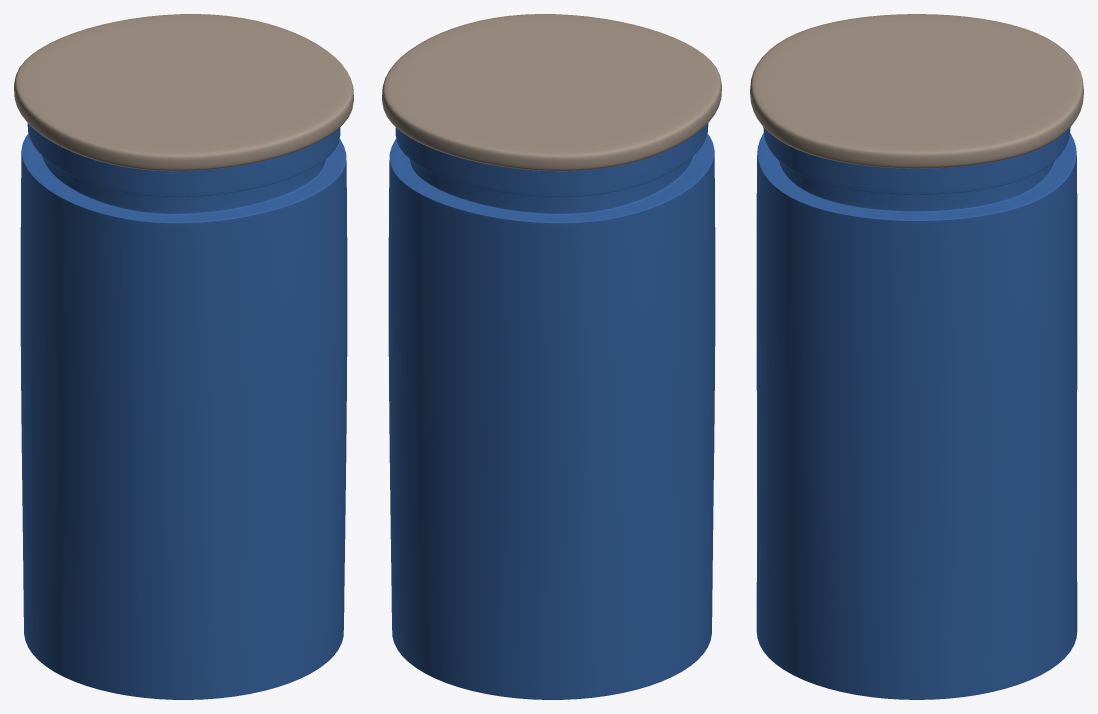
Rendered from jar_tall_lid.fbx.
3 renders of one model, left to right at view 1: azimuth 30°, elevation 25°; view 2: azimuth 150°, elevation 25°; view 3: azimuth 270°, elevation 25°, orthographic.
Parts seen in each view (by area): view 1: jar_tall_lid; view 2: jar_tall_lid; view 3: jar_tall_lid.
Part boxes in pixels (x1,y1,x2,y2): jar_tall_lid: (14, 14, 353, 699); jar_tall_lid: (382, 14, 721, 699); jar_tall_lid: (750, 14, 1083, 699).
Size of the model in its own units: 41.22 by 74.96 by 41.22.
